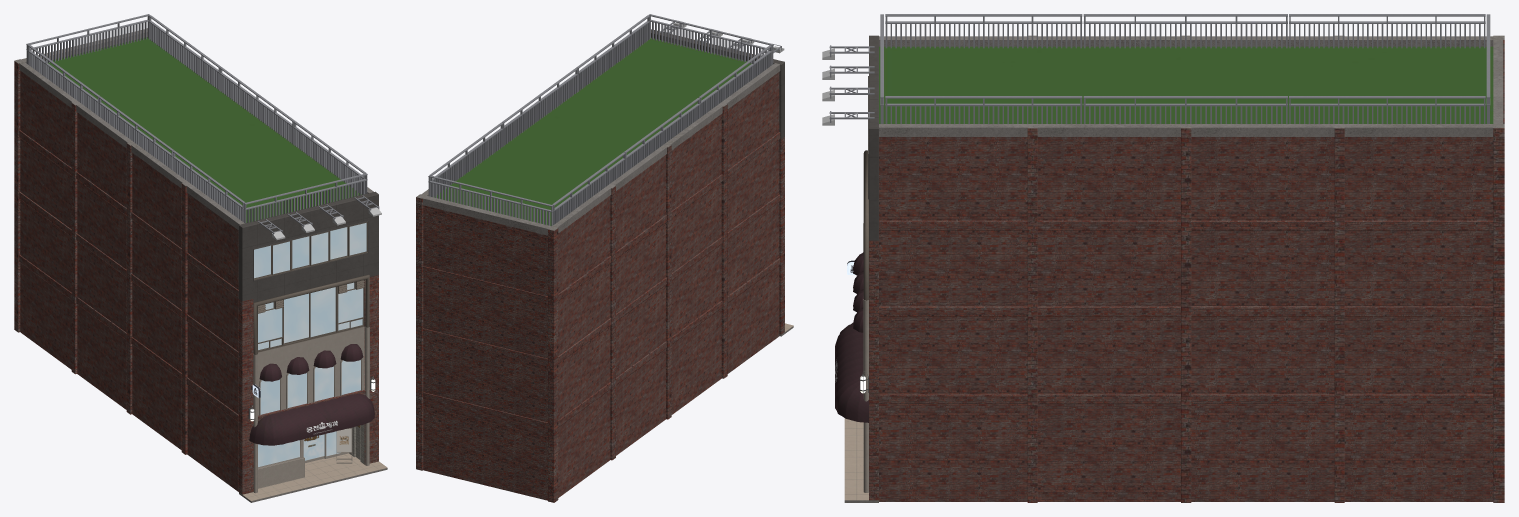
The model's file is bakery.glb.
3 renders of one model, left to right at view 1: azimuth 30°, elevation 25°; view 2: azimuth 150°, elevation 25°; view 3: azimuth 270°, elevation 25°, orthographic. The views are drawn at different scales.
Parts seen in each view (by area): view 1: GungjeonBakery_Base_GungjeonBakery_Base_0, GungjeonBakery_Detail_GungjeonBakery_Detail_0; view 2: GungjeonBakery_Base_GungjeonBakery_Base_0, GungjeonBakery_Detail_GungjeonBakery_Detail_0; view 3: GungjeonBakery_Base_GungjeonBakery_Base_0, GungjeonBakery_Detail_GungjeonBakery_Detail_0.
Boxes of the visible parts, bbox=[...] form: GungjeonBakery_Base_GungjeonBakery_Base_0: bbox=[14, 61, 387, 500]; GungjeonBakery_Detail_GungjeonBakery_Detail_0: bbox=[14, 14, 387, 502]; GungjeonBakery_Base_GungjeonBakery_Base_0: bbox=[416, 29, 793, 502]; GungjeonBakery_Detail_GungjeonBakery_Detail_0: bbox=[416, 14, 793, 336]; GungjeonBakery_Base_GungjeonBakery_Base_0: bbox=[844, 35, 1504, 502]; GungjeonBakery_Detail_GungjeonBakery_Detail_0: bbox=[822, 14, 1504, 502].
Size of the model in its own units: 7.34 by 14.78 by 22.78.
Materials: 2 (2 with a texture image).
